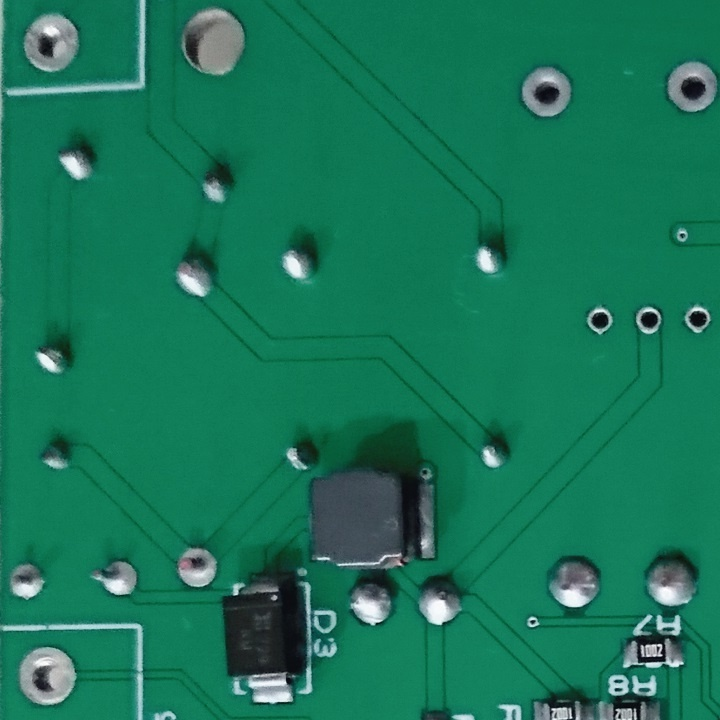F: (10, 640, 93, 709), (21, 12, 84, 73), (661, 57, 720, 116), (521, 64, 575, 124), (84, 555, 144, 603), (167, 543, 224, 589), (1, 559, 52, 603), (680, 301, 713, 333), (586, 305, 614, 336), (633, 306, 661, 335)
